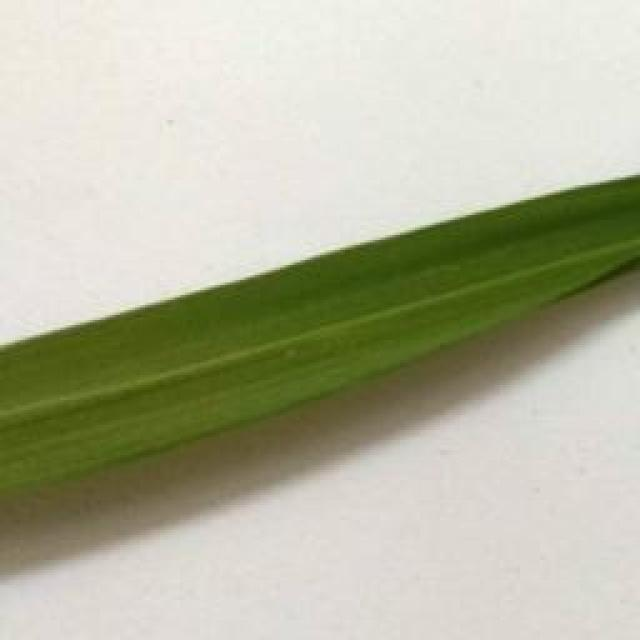Healthy-Plant: (0, 309, 144, 492), (394, 198, 540, 372), (145, 268, 275, 458), (275, 235, 395, 415), (541, 177, 640, 312)
